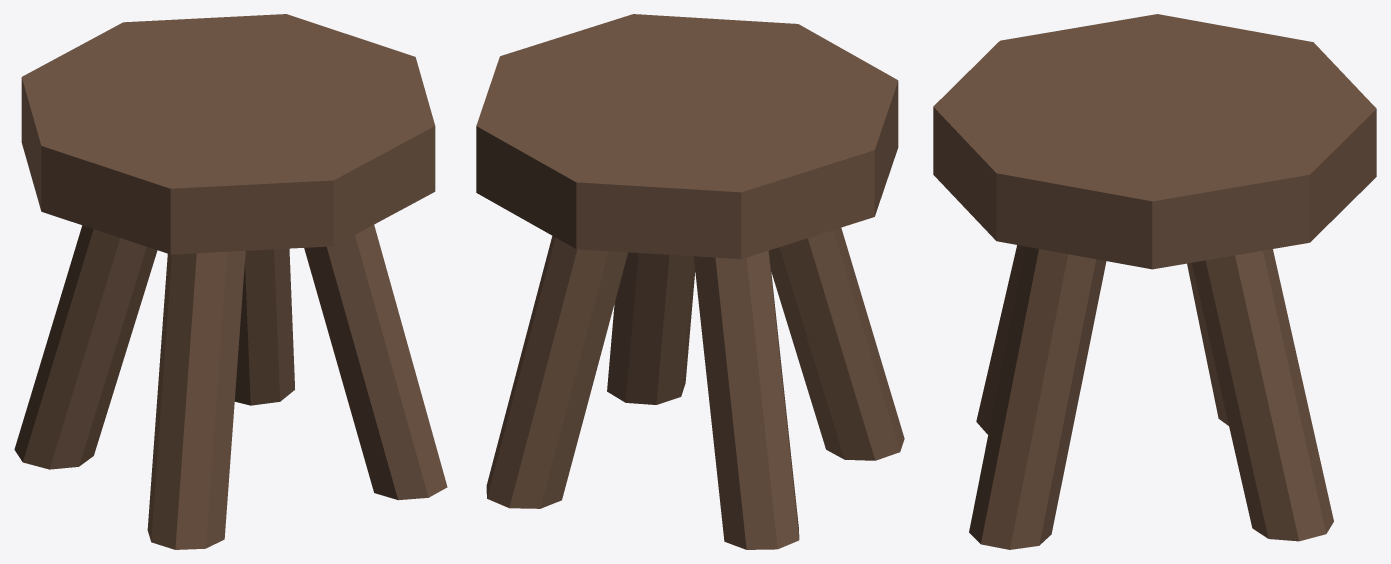
The model's file is Chair.fbx.
3 renders of one model, left to right at view 1: azimuth 30°, elevation 25°; view 2: azimuth 150°, elevation 25°; view 3: azimuth 270°, elevation 25°, orthographic. The views are drawn at different scales.
Visible parts, largest first — view 1: Chair; view 2: Chair; view 3: Chair.
Part boxes in pixels (x1,y1,x2,y2): Chair: (14,14,447,549); Chair: (476,14,904,549); Chair: (933,14,1376,549).
Size of the model in its own units: 51.2 by 47.29 by 51.2.
